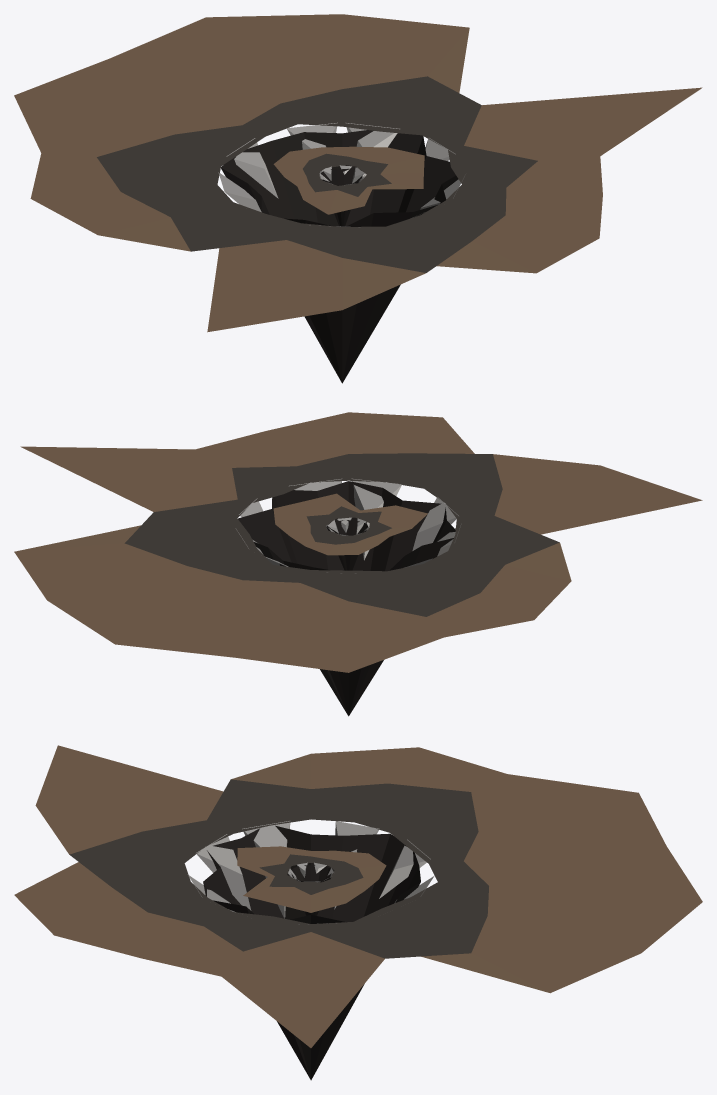
The model's file is damage_fx.glb.
3 renders of one model, top to bottom at view 1: azimuth 30°, elevation 25°; view 2: azimuth 150°, elevation 25°; view 3: azimuth 270°, elevation 25°, orthographic. The views are drawn at different scales.
Visible parts, largest first — view 1: hole_large, hole_small; view 2: hole_large, hole_small; view 3: hole_large, hole_small.
Part boxes in pixels (bbox=[...]): hole_large: bbox=[14, 14, 702, 383]; hole_small: bbox=[273, 146, 424, 226]; hole_large: bbox=[14, 412, 702, 716]; hole_small: bbox=[273, 493, 427, 570]; hole_large: bbox=[14, 745, 702, 1080]; hole_small: bbox=[237, 846, 386, 915].
Size of the model in its own units: 5.02 by 1.61 by 4.82.
